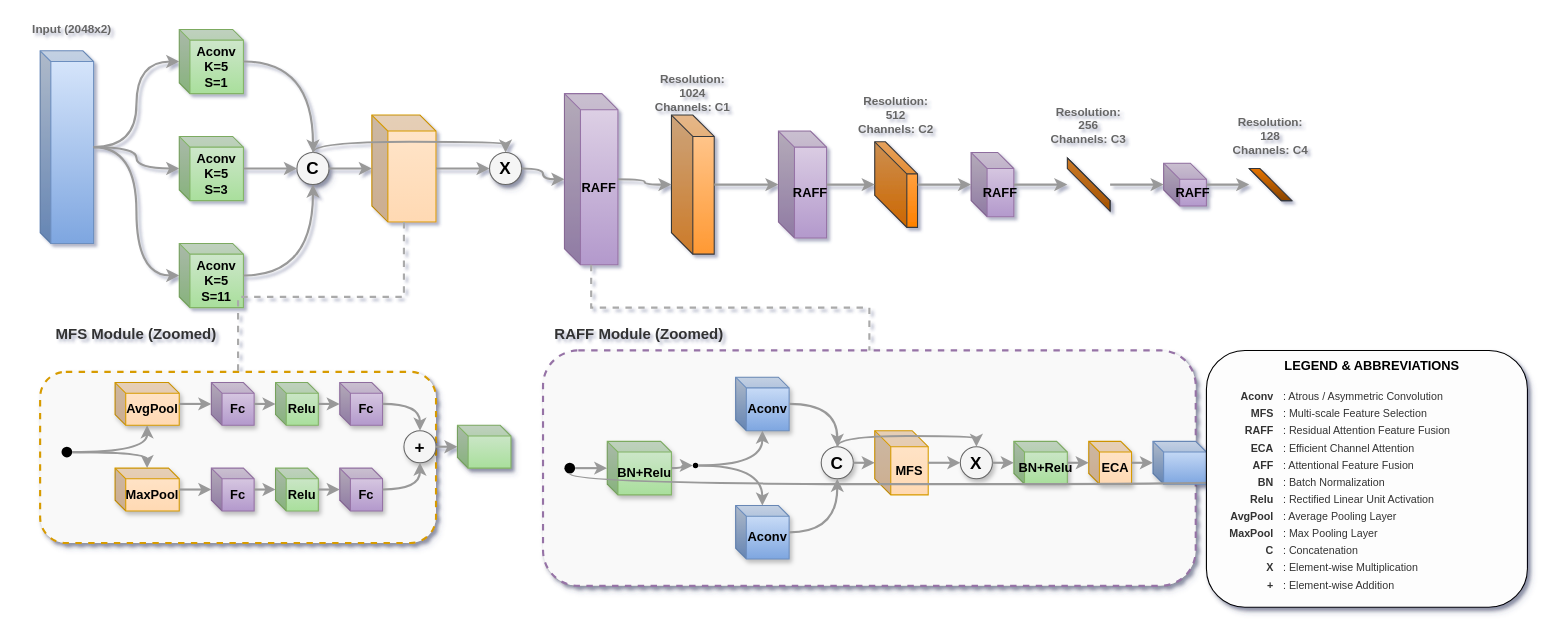
The diagram is 1559 pixels wide and 640 high, and some of its shapes have lost their labels. The centre of each missing label's shape, as x and y in pixels:
"Conv1D" belongs at (x=1180, y=464).
"F1 1024 x C1" belongs at (x=692, y=184).
"F2 512 x C2" belongs at (x=896, y=184).
"F3 256 x C3" belongs at (x=1088, y=184).
"F4 128 x C4" belongs at (x=1270, y=184).
"IQ Signal 2048x2" belongs at (x=66, y=146).
"MFS Module" belongs at (x=403, y=168).
"Sigmoid" belongs at (x=484, y=448).
